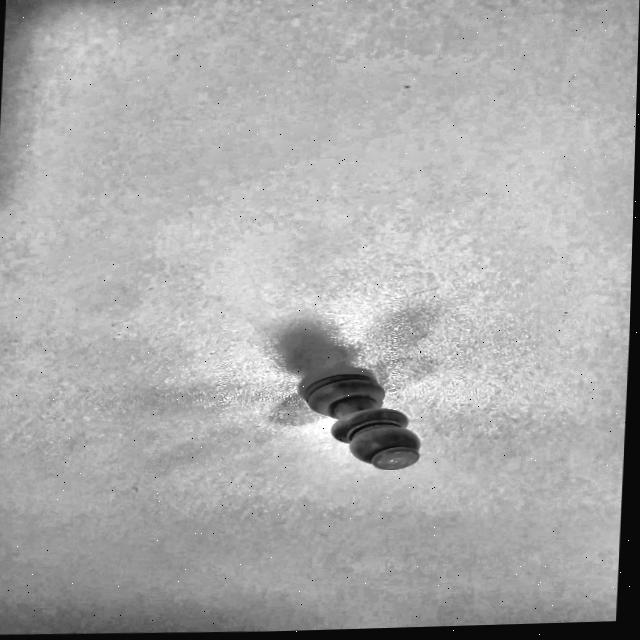white-bishop: (284, 331, 420, 470)
